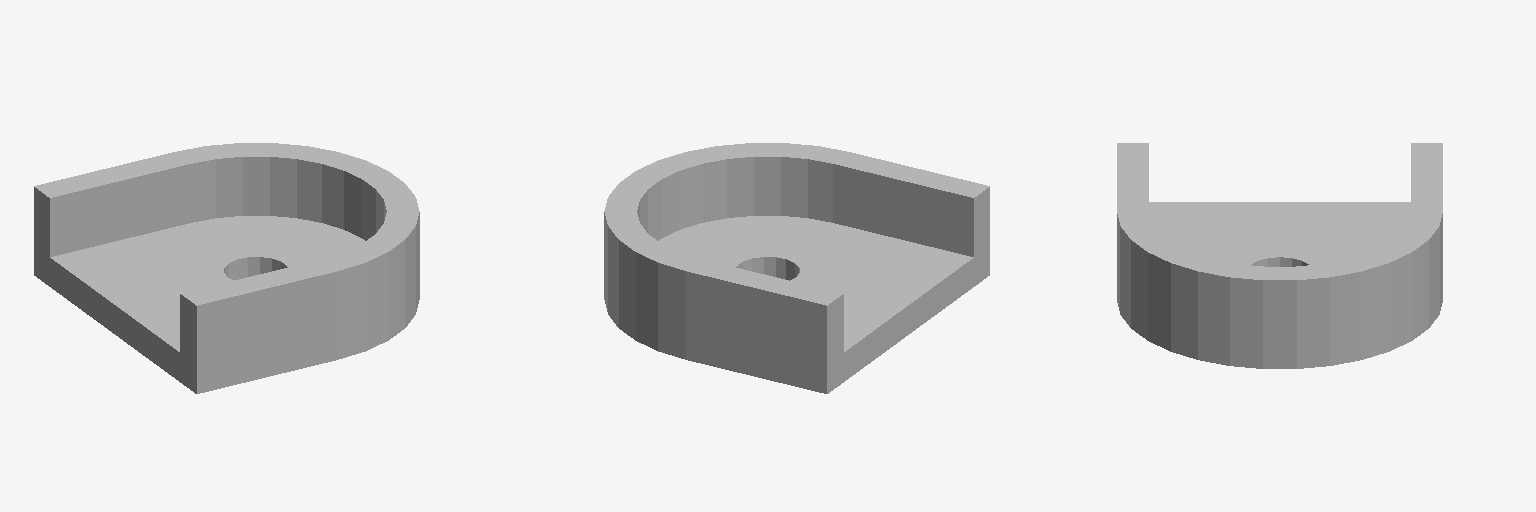
Rendered from End_.obj.
3 views of the same model, side by side, from view 1: azimuth 30°, elevation 25°; view 2: azimuth 150°, elevation 25°; view 3: azimuth 270°, elevation 25° (orthographic).
Visible parts, largest first — view 1: End_; view 2: End_; view 3: End_.
Part boxes in pixels (x1,y1,x2,y2): End_: (34, 143, 419, 393); End_: (604, 143, 989, 393); End_: (1117, 143, 1442, 368).
Bounding box in the file's own units: 1.99 × 0.6 × 2.